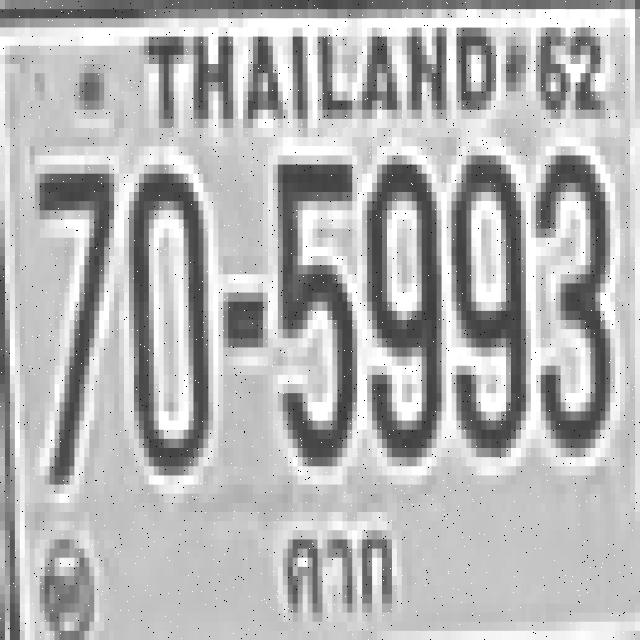0: (124, 156, 204, 467)
3: (531, 146, 605, 438)
5: (272, 156, 352, 458)
7: (35, 160, 109, 480)
9: (362, 150, 437, 452), (446, 146, 520, 448)
Tak: (270, 514, 408, 634)
